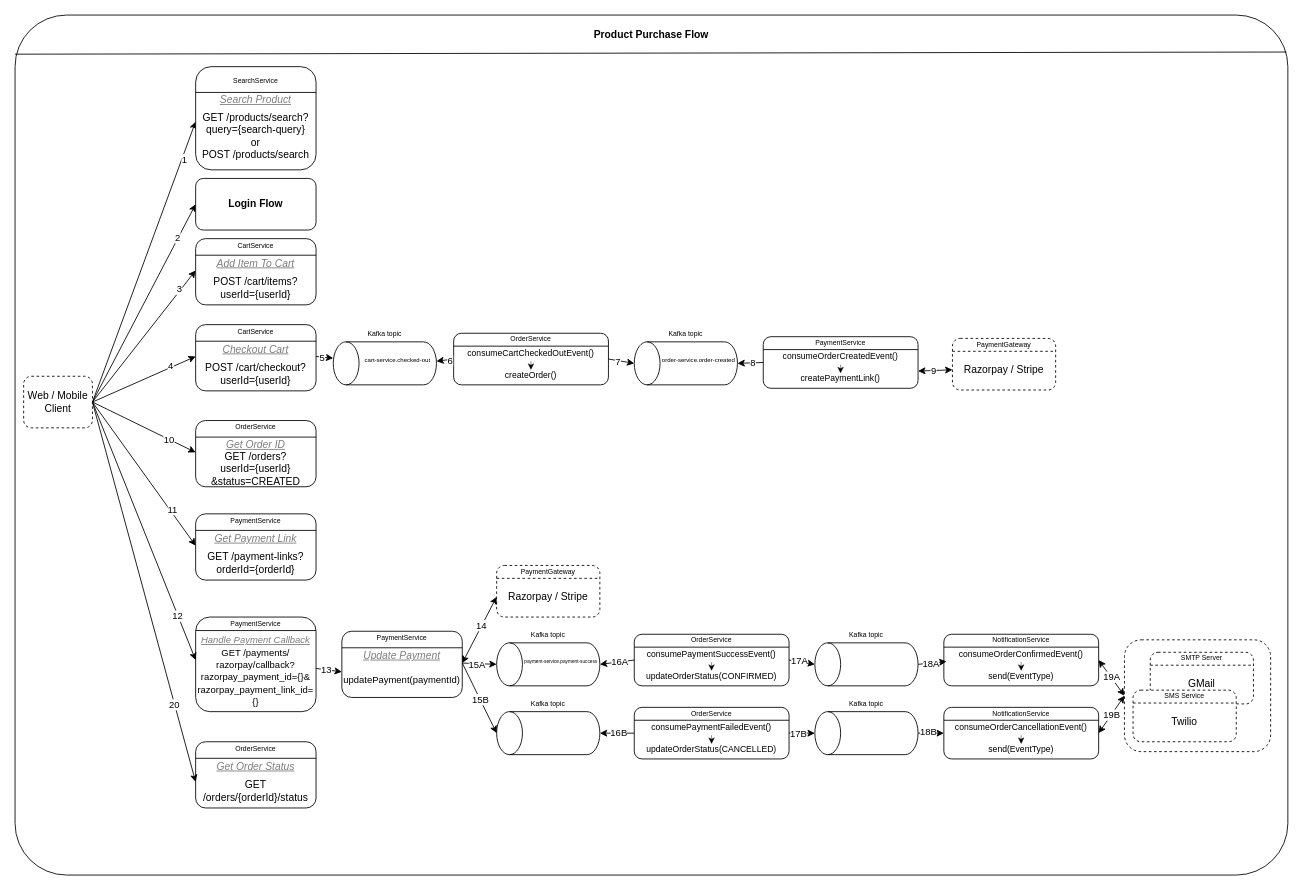
Some shapes in this 1303 by 890 pixel diagram are drawn without their labels. The centre of each missing label's shape, as x and y in pixels:
order-service.order-cancelled: the point at 866,733
order-service.order-confirmed: the point at 866,664
payment-service.payment-failed: the point at 548,733
